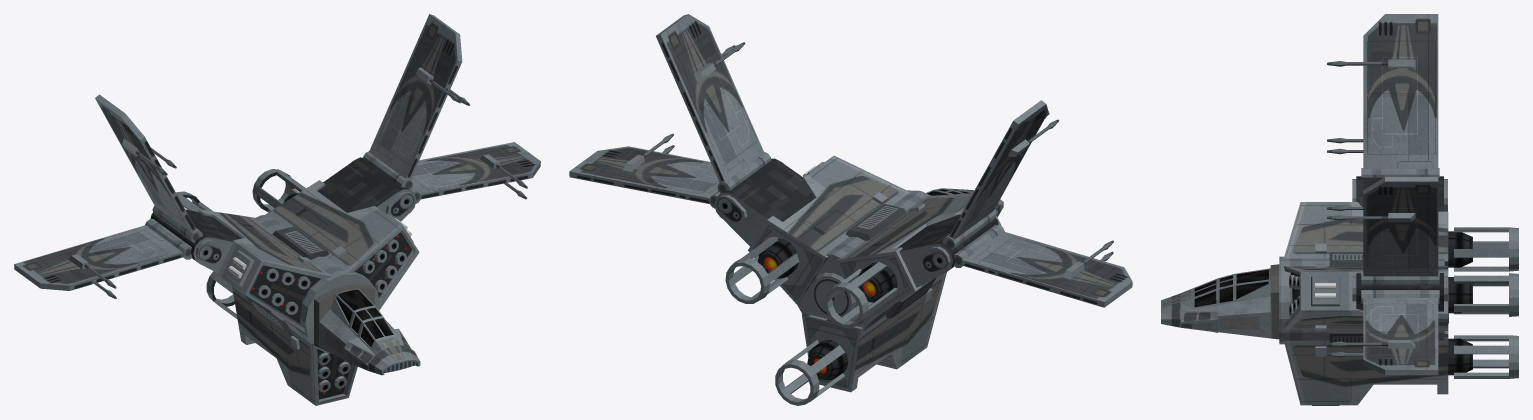
Rendered from Sith_Gunship.obj.
3 renders of one model, left to right at view 1: azimuth 30°, elevation 25°; view 2: azimuth 150°, elevation 25°; view 3: azimuth 270°, elevation 25°, orthographic. The views are drawn at different scales.
Visible parts, largest first — view 1: Hull; view 2: Hull; view 3: Hull.
Boxes of the visible parts, <box> form: Hull: <box>14,14,540,405</box>; Hull: <box>569,14,1132,405</box>; Hull: <box>1161,14,1518,405</box>.
Bounding box in the file's own units: 143 × 83.09 × 87.51.
